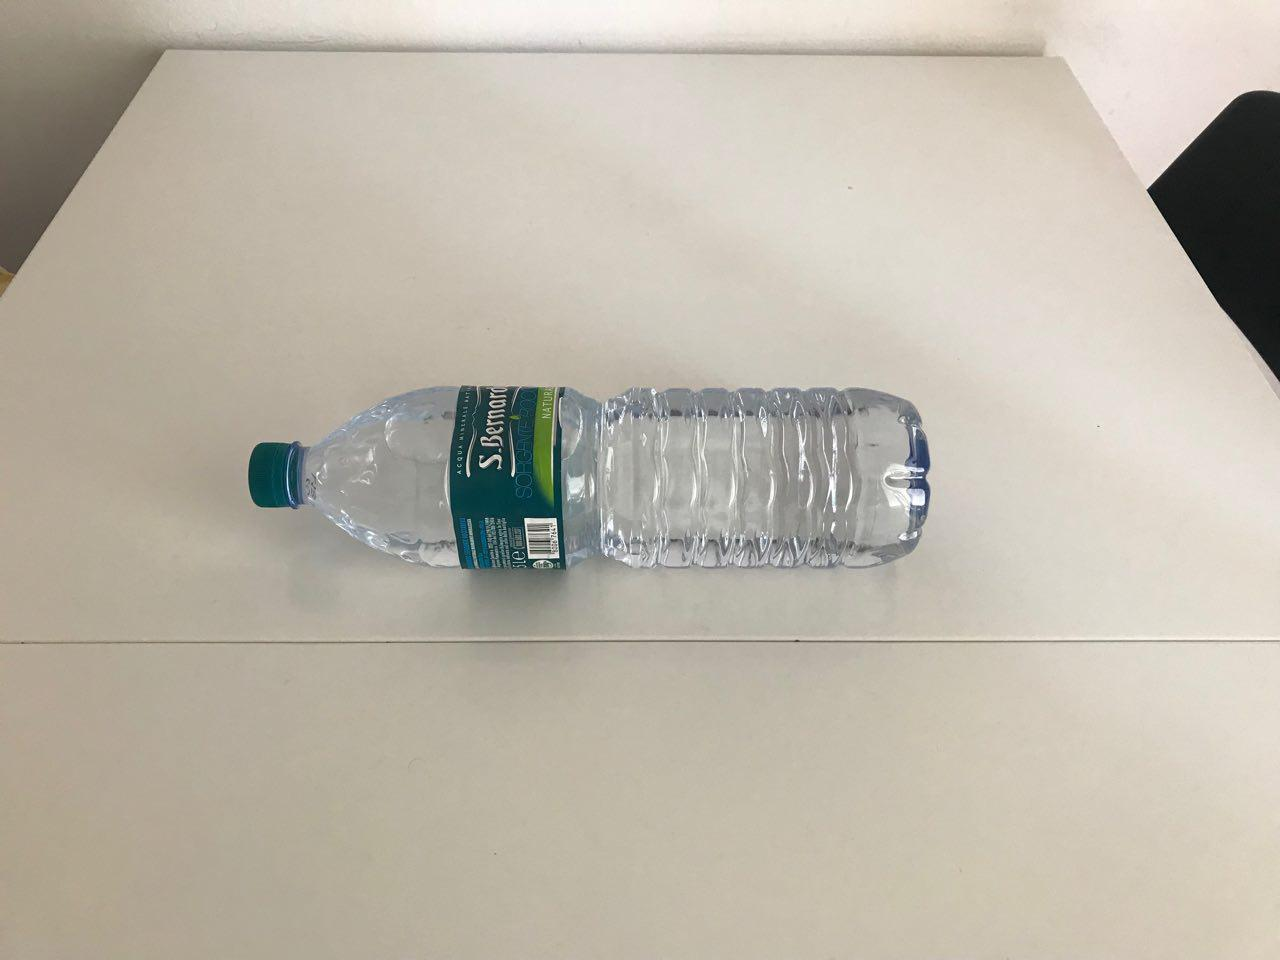san_bernardo: (245, 383, 933, 572)
